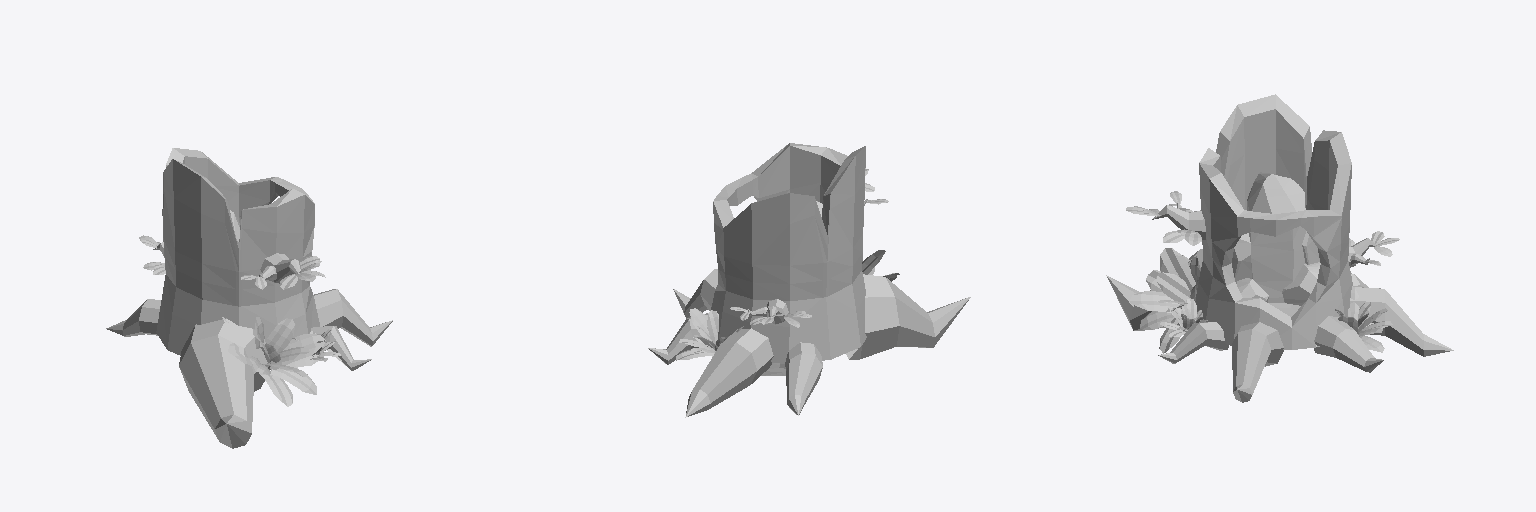
File: target improved.obj
The picture shows the model from 3 angles: view 1: azimuth 30°, elevation 25°; view 2: azimuth 150°, elevation 25°; view 3: azimuth 270°, elevation 25°; orthographic projection.
Visible parts, largest first — view 1: tree_trunk_target_tree_trunk tree_trunk_target_trunk tree_trunk_, pCylinder13 roots1, roots1 pCylinder9, roots1 pCylinder22, roots1 pCylinder10, branch1 pCylinder21, fern1 Mesh117, Mesh125 fern1, fern1 Mesh114; view 2: tree_trunk_target_tree_trunk tree_trunk_target_trunk tree_trunk_, pCylinder13 roots1, roots1 pCylinder12, roots1 pCylinder22, roots1 pCylinder9, roots1 pCylinder11; view 3: tree_trunk_target_tree_trunk tree_trunk_target_trunk tree_trunk_, rocks_trget stone17, roots1 pCylinder9, roots1 pCylinder12, roots1 pCylinder11, roots1 pCylinder10, rocks_trget stone13, pCylinder13 roots1, branch1 pCylinder21, fern1 Mesh122, rocks_trget stone20, fern1 Mesh124 (+1 smaller).
Part boxes in pixels (bbox=[...]): tree_trunk_target_tree_trunk tree_trunk_target_trunk tree_trunk_: bbox=[156, 148, 319, 355]; pCylinder13 roots1: bbox=[179, 318, 270, 448]; roots1 pCylinder9: bbox=[314, 289, 392, 346]; roots1 pCylinder22: bbox=[106, 299, 160, 336]; roots1 pCylinder10: bbox=[311, 326, 371, 370]; branch1 pCylinder21: bbox=[260, 253, 301, 283]; fern1 Mesh117: bbox=[270, 334, 325, 370]; Mesh125 fern1: bbox=[266, 318, 295, 352]; fern1 Mesh114: bbox=[270, 368, 316, 394]; tree_trunk_target_tree_trunk tree_trunk_target_trunk tree_trunk_: bbox=[711, 143, 866, 363]; pCylinder13 roots1: bbox=[846, 274, 970, 359]; roots1 pCylinder12: bbox=[685, 328, 773, 417]; roots1 pCylinder22: bbox=[785, 342, 822, 415]; roots1 pCylinder9: bbox=[673, 269, 717, 318]; roots1 pCylinder11: bbox=[648, 313, 707, 364]; tree_trunk_target_tree_trunk tree_trunk_target_trunk tree_trunk_: bbox=[1195, 94, 1352, 349]; rocks_trget stone17: bbox=[1247, 172, 1305, 302]; roots1 pCylinder9: bbox=[1232, 322, 1283, 402]; roots1 pCylinder12: bbox=[1350, 287, 1453, 356]; roots1 pCylinder11: bbox=[1314, 316, 1383, 372]; roots1 pCylinder10: bbox=[1158, 322, 1228, 363]; rocks_trget stone13: bbox=[1282, 262, 1320, 305]; pCylinder13 roots1: bbox=[1106, 249, 1202, 330]; branch1 pCylinder21: bbox=[1152, 205, 1205, 239]; fern1 Mesh122: bbox=[1160, 248, 1195, 291]; rocks_trget stone20: bbox=[1232, 233, 1251, 281]; fern1 Mesh124: bbox=[1157, 272, 1190, 304].
Size of the model in its own units: 9.8 by 9.62 by 12.69.